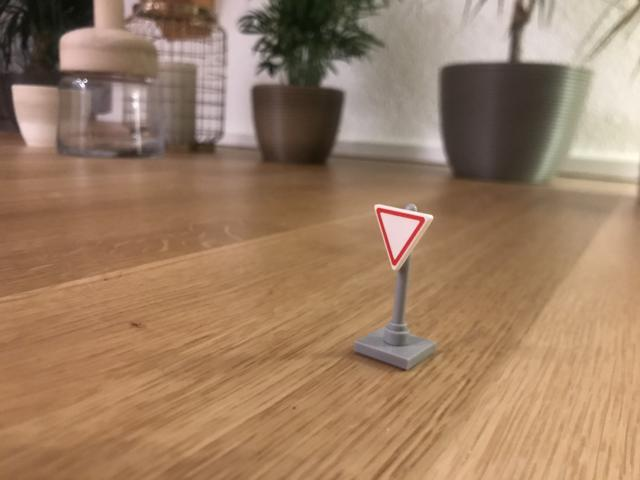vorfahrt gewähren: (371, 202, 432, 275)
